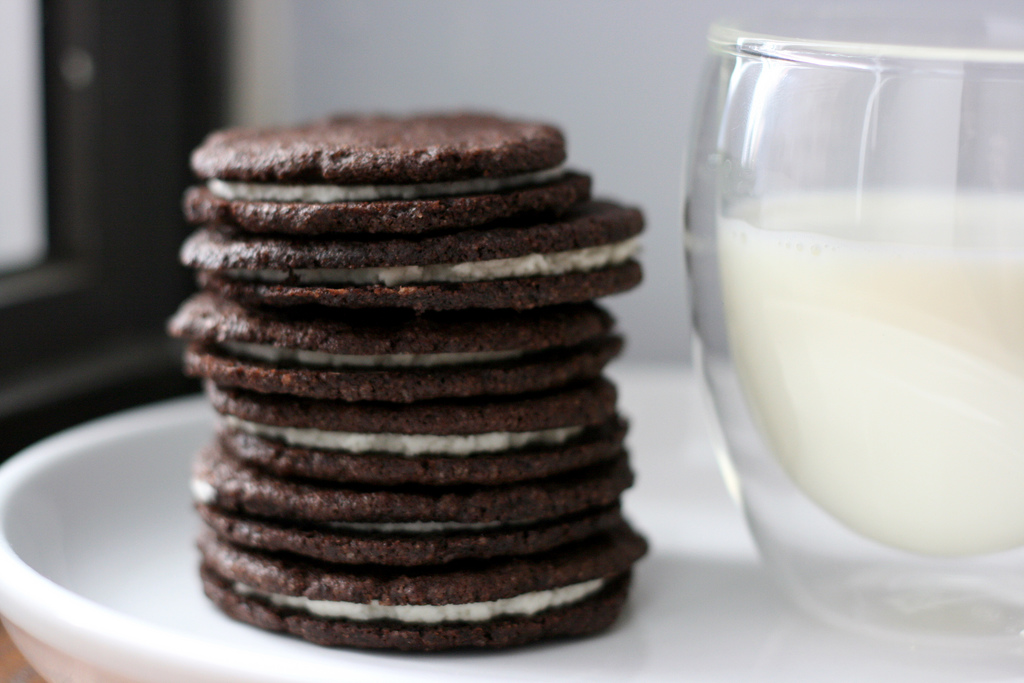glass of milk: (706, 30, 1024, 652)
